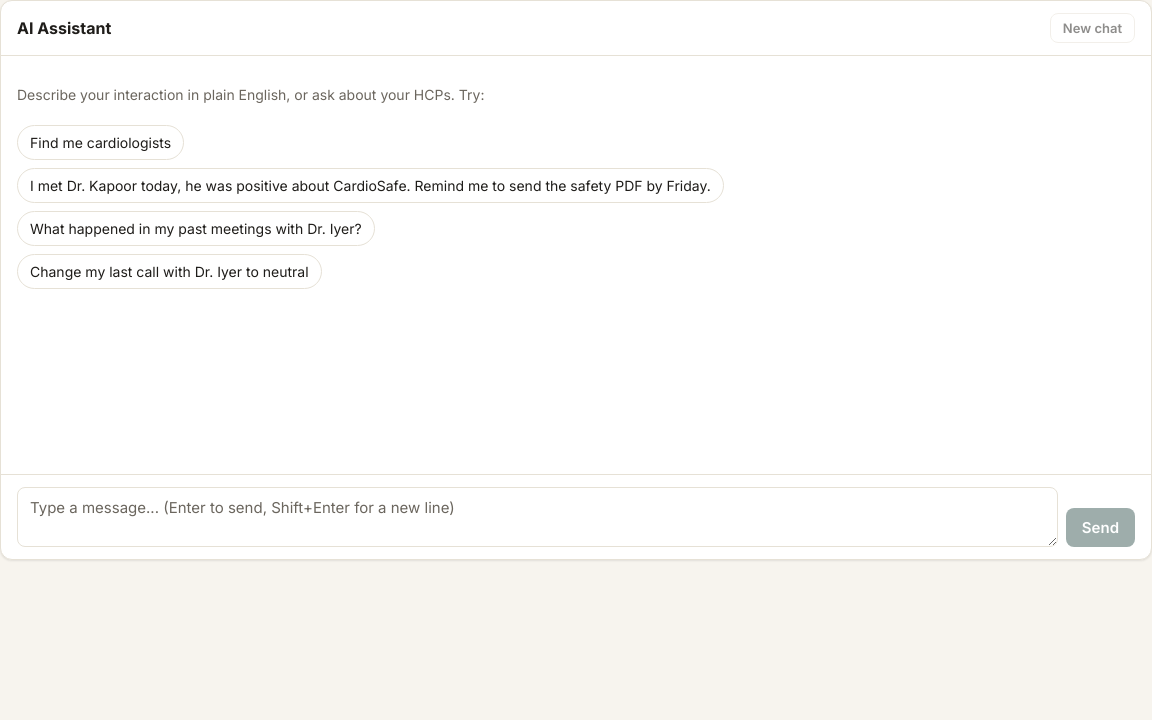
it: ChatPanel › shows an error and retries without duplicating the message
In the text box with placeholder "Type a message": (537, 517) [17, 487, 1058, 547], type "hello"
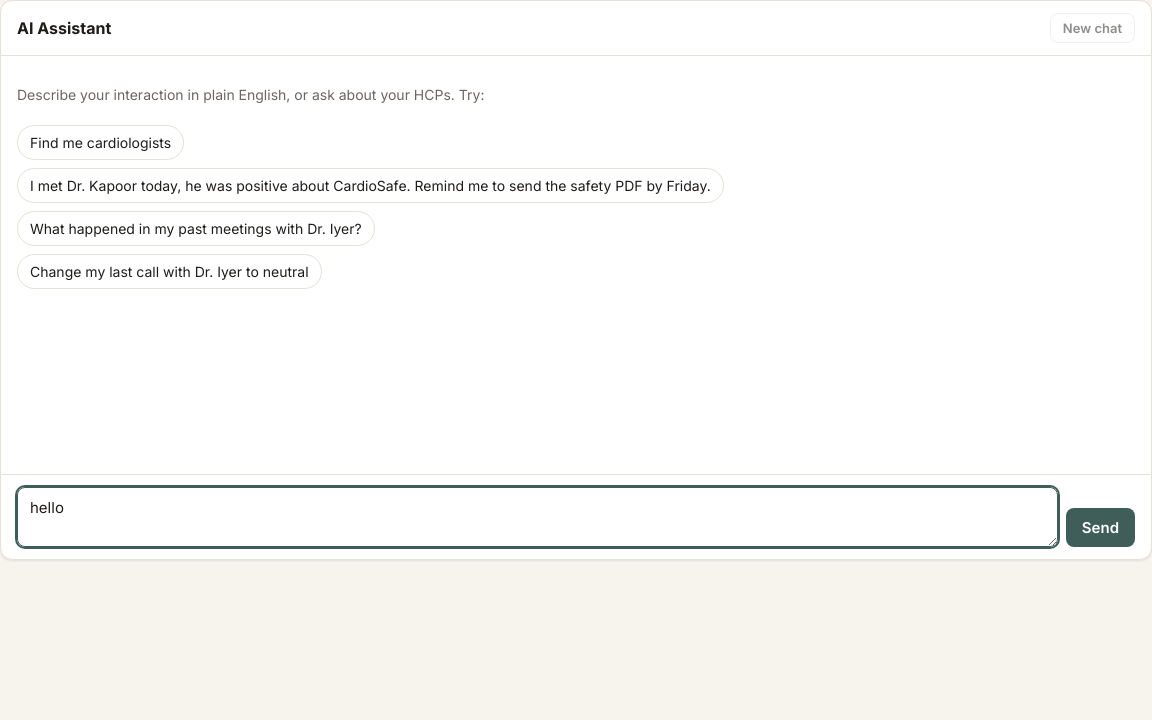
Click the button "Send": (1100, 528) [1066, 508, 1135, 547]
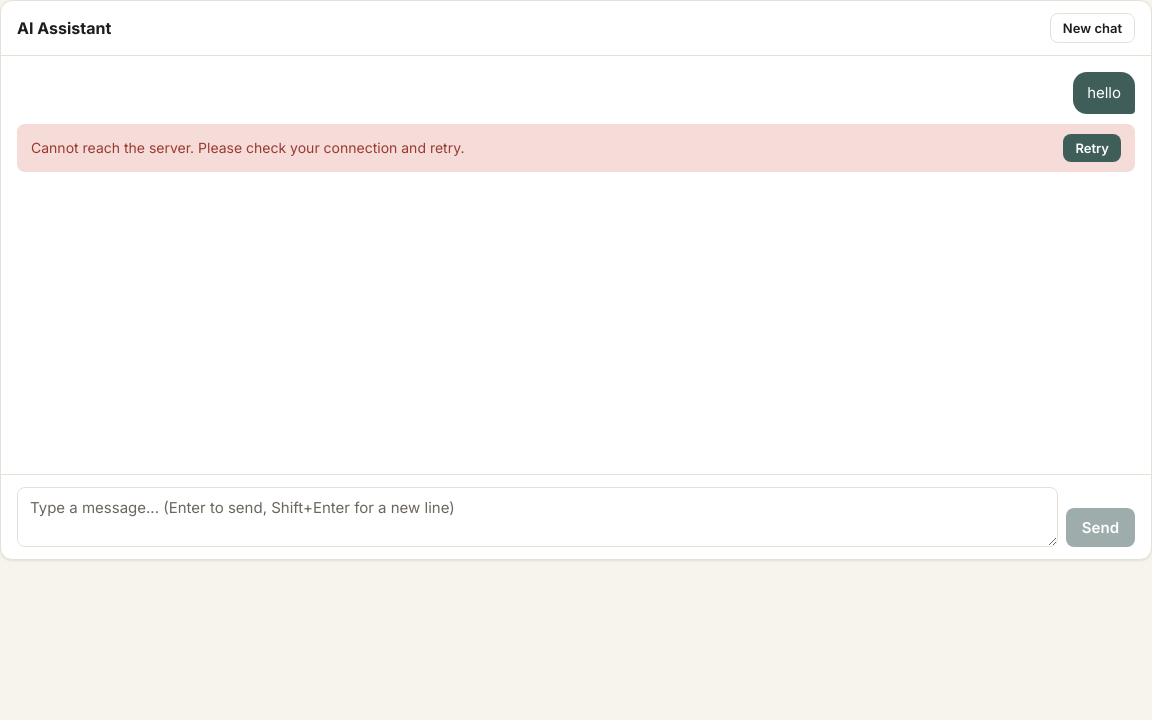
Result: the text "Cannot reach the server" is shown at [31, 139, 464, 156]
Click the button "Retry": (1092, 148) [1063, 134, 1121, 162]
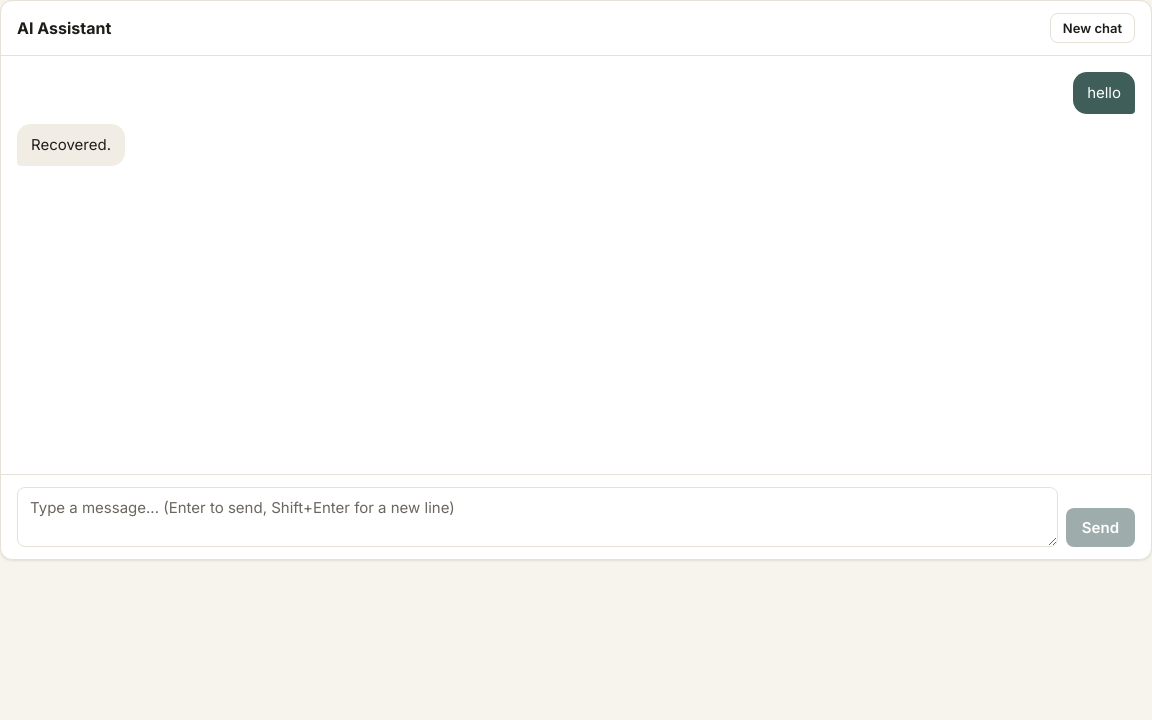
Result: the text "Recovered." is shown at [17, 124, 125, 166]
Result: the text "hello" is shown once at [1073, 72, 1135, 114]
